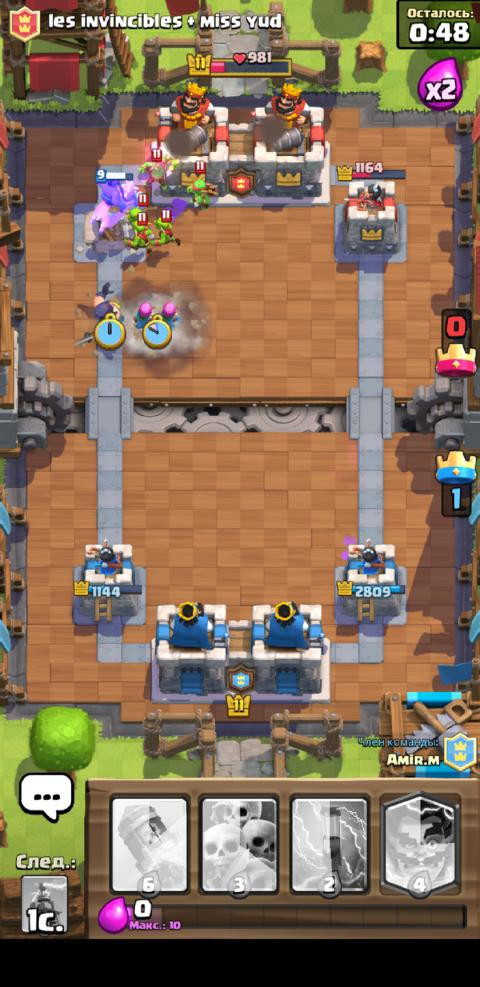ally_archer: (155, 301, 181, 329), (130, 301, 155, 328)
ally_executioner: (72, 281, 126, 351)
ally_hog_rider: (88, 168, 138, 235)
enemy_goblin: (121, 211, 153, 254), (147, 208, 181, 248), (125, 192, 146, 221)
enemy_spear_goblin: (137, 147, 176, 190), (185, 160, 218, 210)
